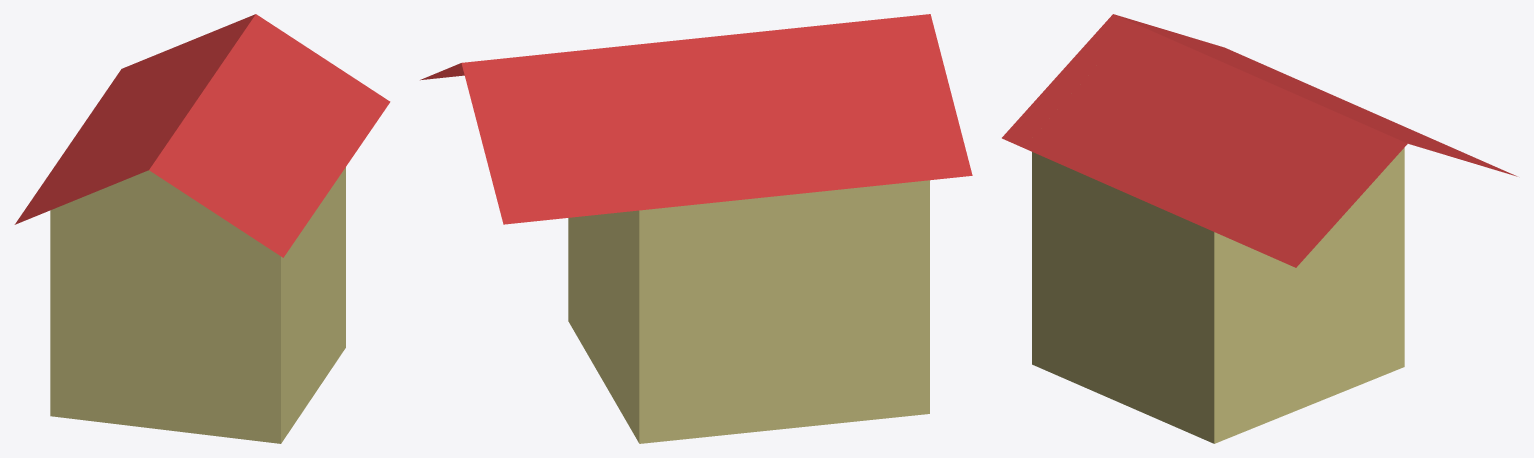
3 views of the same model, side by side, from view 1: azimuth 30°, elevation 25°; view 2: azimuth 150°, elevation 25°; view 3: azimuth 270°, elevation 25° (orthographic). The views are drawn at different scales.
Bounding box in the file's own units: 11.26 × 11.19 × 7.12.
